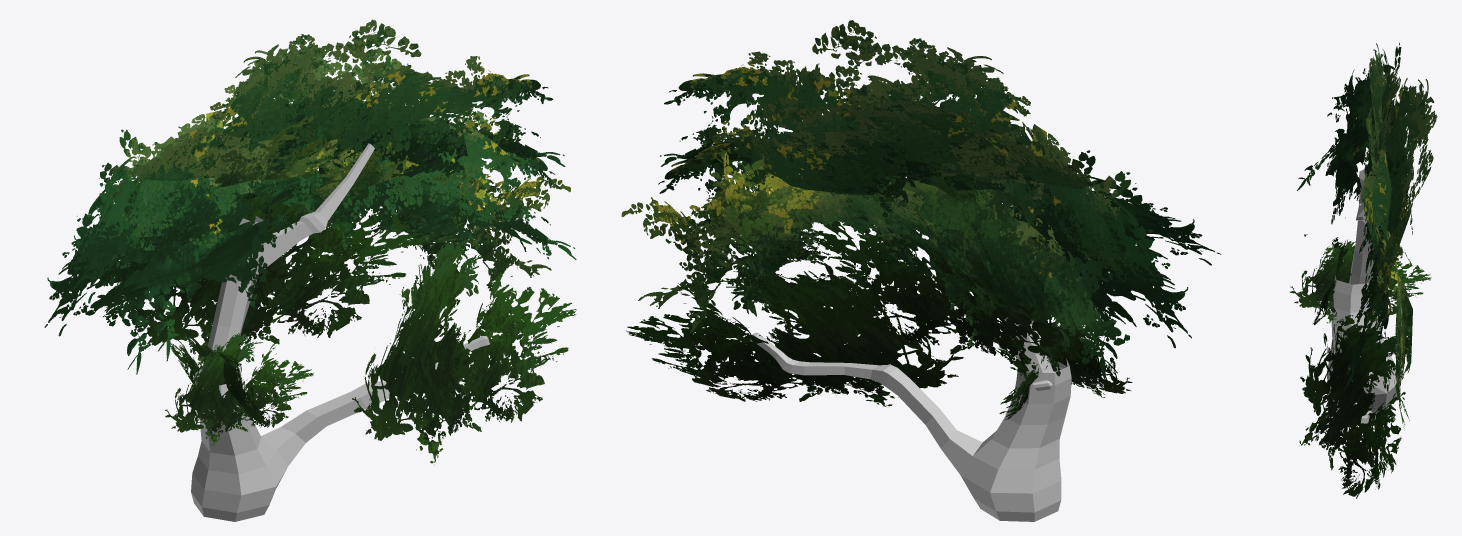
File: shu1.fbx
3 renders of one model, left to right at view 1: azimuth 30°, elevation 25°; view 2: azimuth 150°, elevation 25°; view 3: azimuth 270°, elevation 25°, orthographic. The views are drawn at different scales.
Parts seen in each view (by area): view 1: shu1; view 2: shu1; view 3: shu1.
Part boxes in pixels (<box>): shu1: <box>44,19,576,521</box>; shu1: <box>621,20,1221,521</box>; shu1: <box>1290,42,1437,498</box>.
Size of the model in its own units: 760 by 572 by 232.
